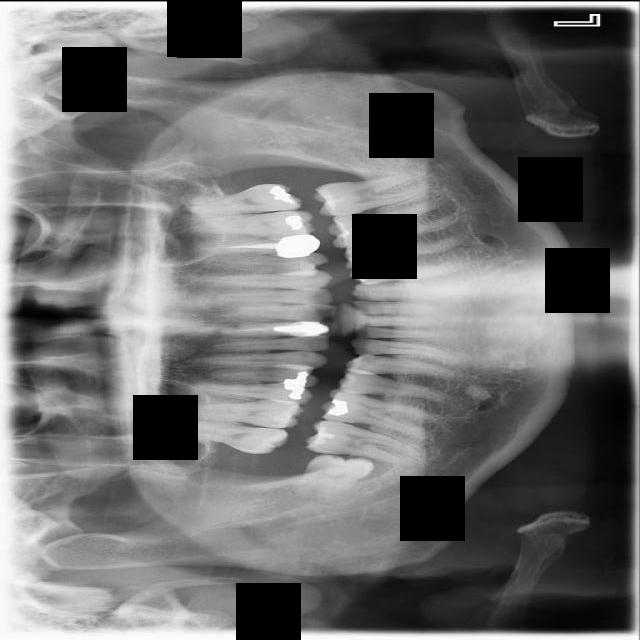52: (318, 384, 378, 430), (304, 415, 362, 458), (313, 177, 371, 220), (326, 207, 383, 250), (236, 180, 306, 213), (244, 395, 304, 430), (259, 209, 315, 241), (268, 361, 321, 388), (258, 381, 313, 404), (282, 318, 337, 339), (275, 234, 320, 258)
73: (195, 235, 284, 258), (220, 320, 293, 337), (559, 42, 577, 54)
BioHorizons Implant: (187, 181, 303, 214)
Blue Sky Bio Implant: (312, 167, 436, 220)
Caries: (176, 417, 289, 457)
Implant: (304, 416, 425, 469)
Keystone Dental Implant: (290, 451, 376, 506)
